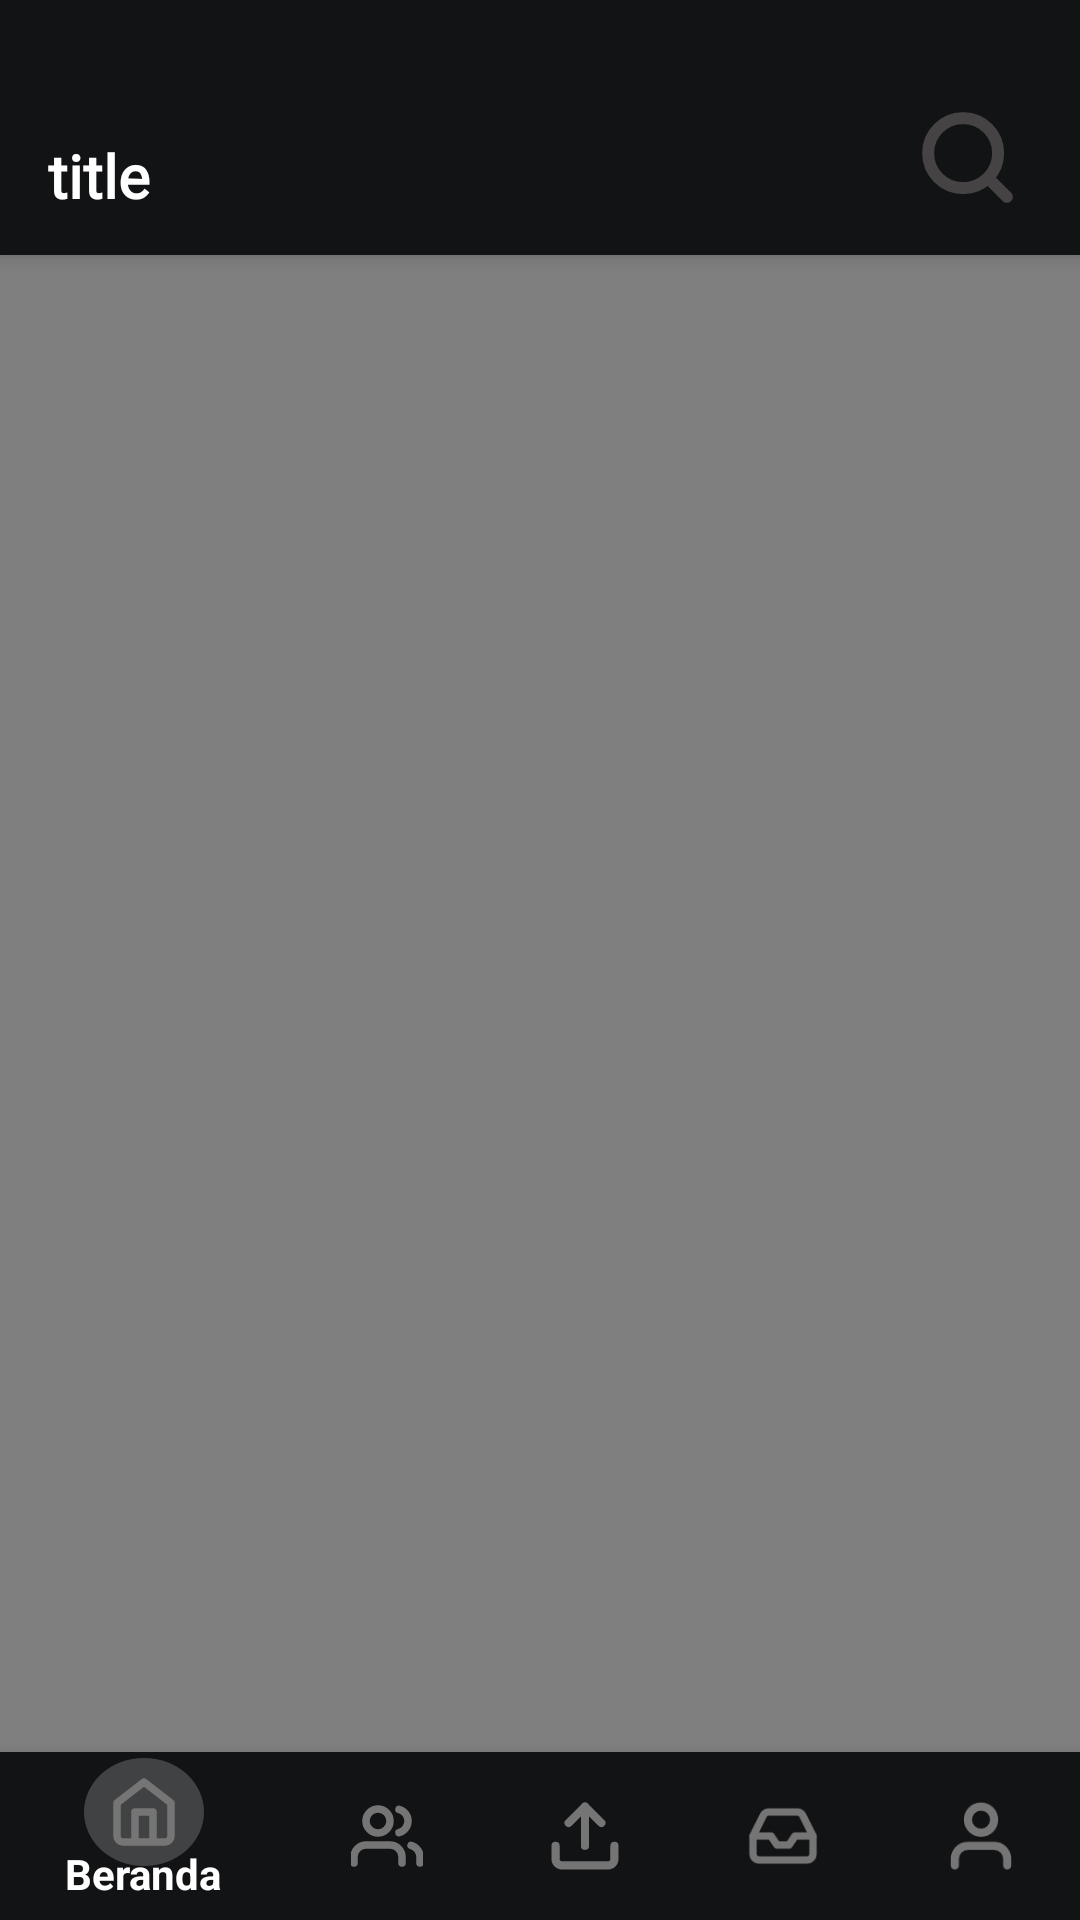

Locate icon controls on the screen. Image size 1080 × 1920, boxes as rect(x1, y1, x2, y2).
search: rect(922, 112, 1013, 203)
